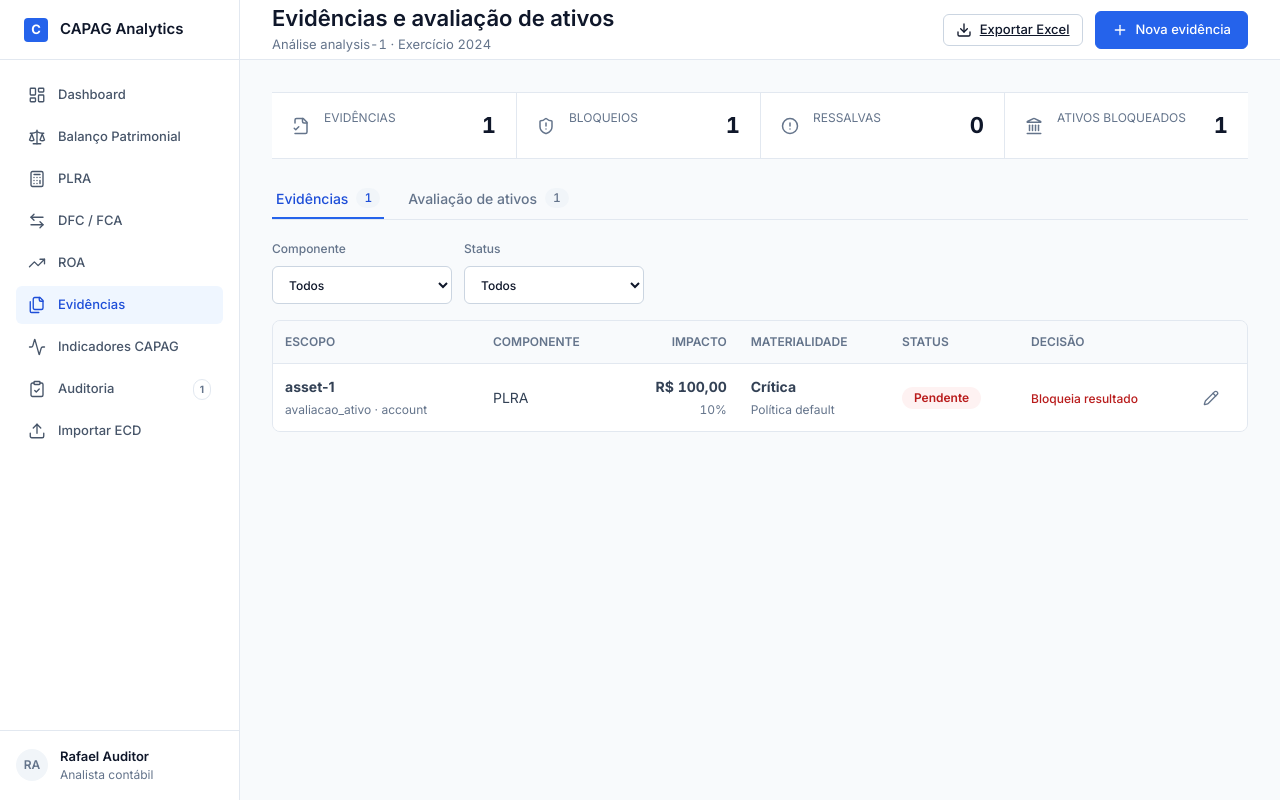
Evidence route › shows persisted asset values and explicit PLRA block
The width and height of the screenshot is (1280, 800).
Expected: the text "R$ 100,00" is shown, [656,378,727,395]
Step 1. Click the tab "Avaliação de ativos 1" → (489, 199), box [404,179,573,219]
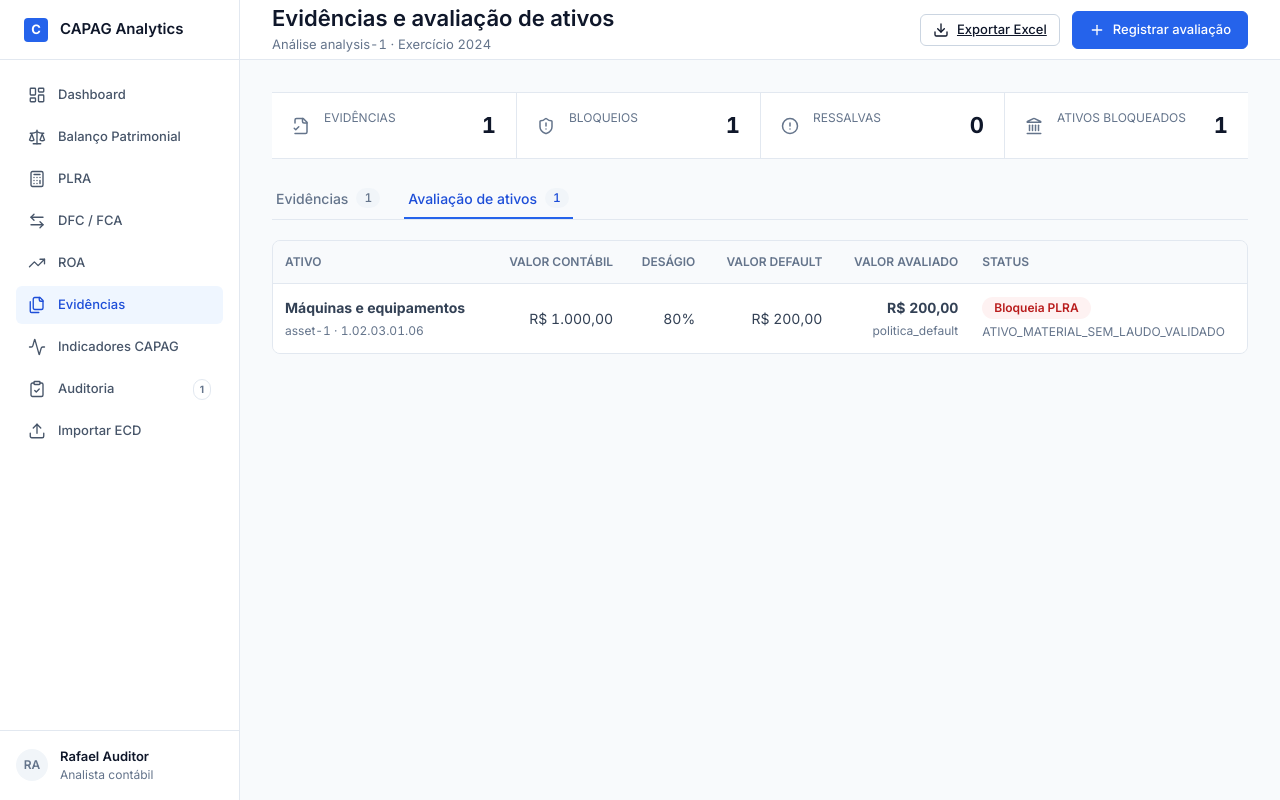
Result: the text "Máquinas e equipamentos" is shown at [285,297,478,318]
Result: the text "R$ 200,00" is shown 2 times at [707,284,834,353]; [887,299,958,316]
Result: the text "Bloqueia PLRA" is shown at [982,297,1091,319]
